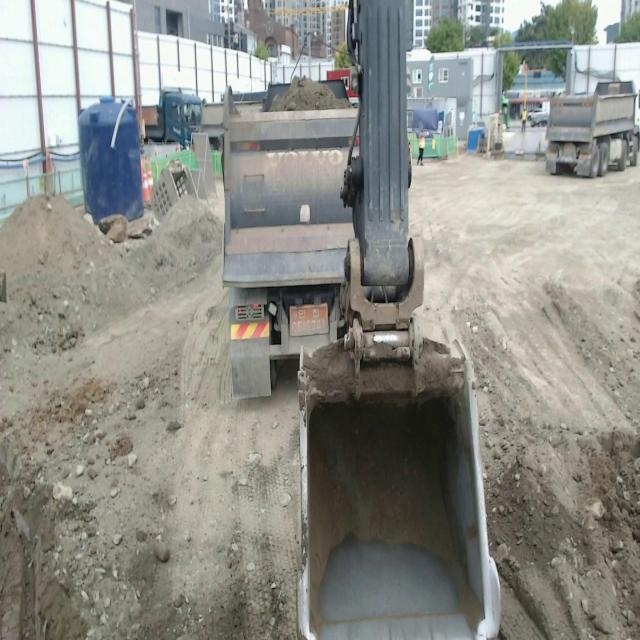white-sand: (0, 197, 300, 639), (410, 155, 640, 430)
